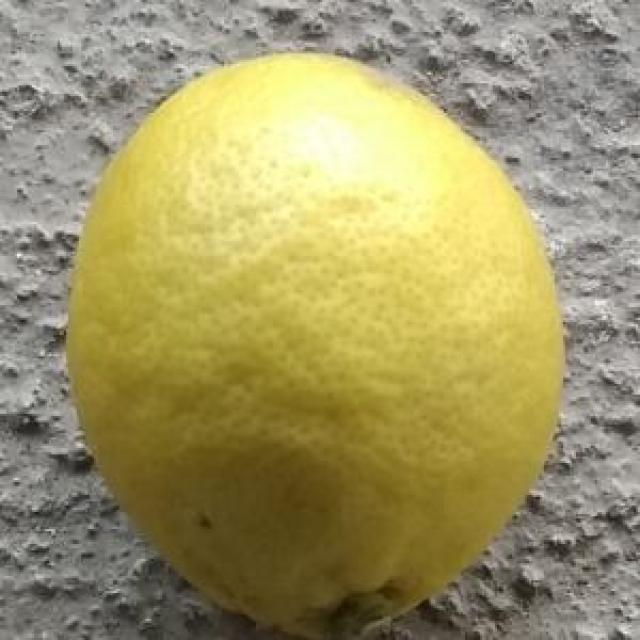lemon: (59, 48, 564, 629)
